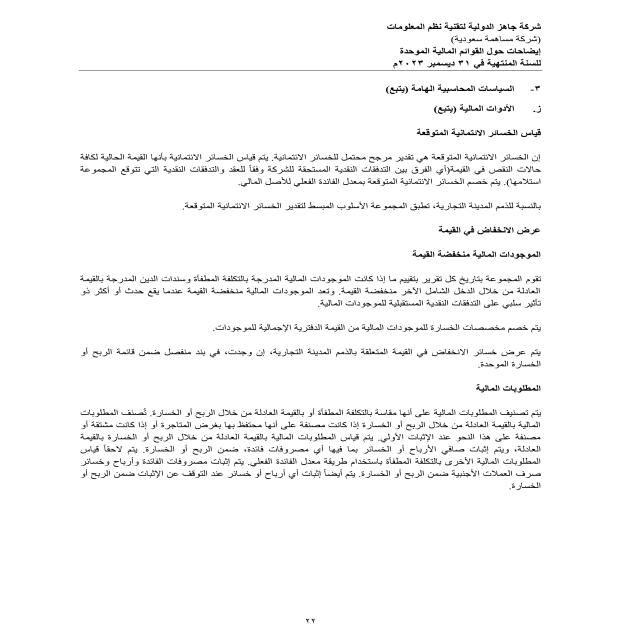notes: (381, 44, 555, 55)
text: (44, 81, 570, 502)
